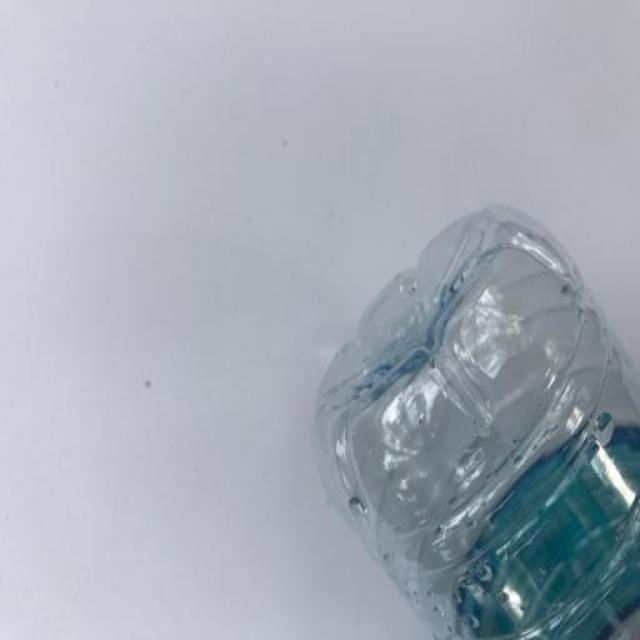plastic_bottle: (300, 177, 640, 640)
